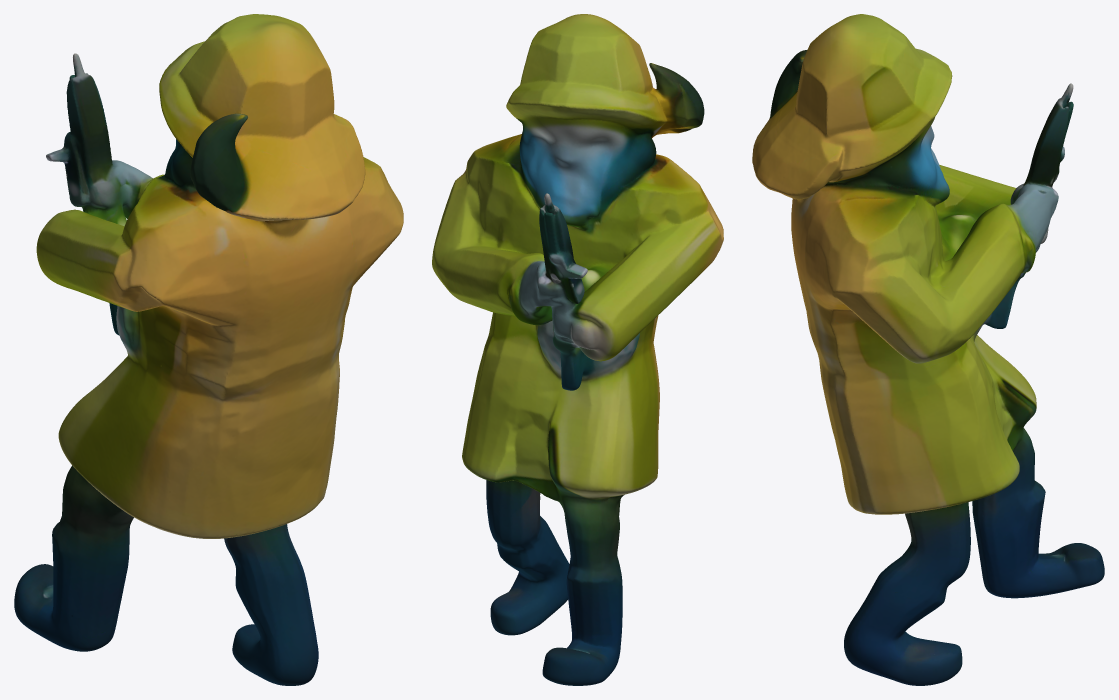
File: keeper-a.glb
The picture shows the model from 3 angles, left to right: view 1: azimuth 30°, elevation 25°; view 2: azimuth 150°, elevation 25°; view 3: azimuth 270°, elevation 25°; orthographic projection. The views are drawn at different scales.
Parts seen in each view (by area): view 1: tripo_node_92b12e03-6c14-4fea-b352-02fa0ac8f6c3; view 2: tripo_node_92b12e03-6c14-4fea-b352-02fa0ac8f6c3; view 3: tripo_node_92b12e03-6c14-4fea-b352-02fa0ac8f6c3.
Part boxes in pixels (<box>): tripo_node_92b12e03-6c14-4fea-b352-02fa0ac8f6c3: <box>14,14,403,685</box>; tripo_node_92b12e03-6c14-4fea-b352-02fa0ac8f6c3: <box>432,14,723,685</box>; tripo_node_92b12e03-6c14-4fea-b352-02fa0ac8f6c3: <box>752,14,1104,685</box>.
Bounding box in the file's own units: 0.8323 × 1.85 × 0.9331.
Materials: 1 (1 with a texture image).
